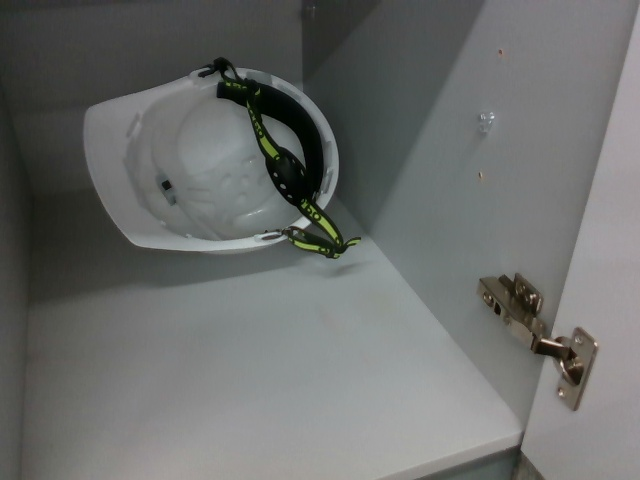helmet: (78, 60, 345, 261)
